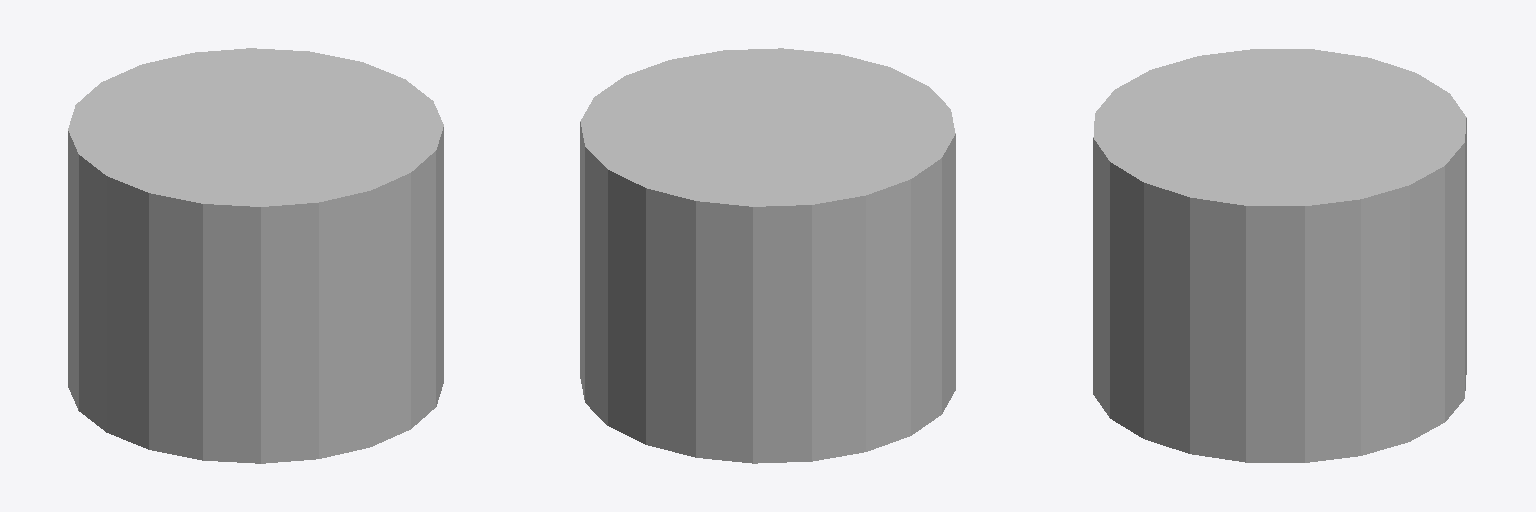
File: Resaltado_Nervio_supraclavicular_I_2.obj
3 renders of one model, left to right at view 1: azimuth 30°, elevation 25°; view 2: azimuth 150°, elevation 25°; view 3: azimuth 270°, elevation 25°, orthographic.
Visible parts, largest first — view 1: polySurface15 Marcadores1; view 2: polySurface15 Marcadores1; view 3: polySurface15 Marcadores1.
Boxes of the visible parts, x1=… form: polySurface15 Marcadores1: x1=68, y1=48, x2=443, y2=463; polySurface15 Marcadores1: x1=580, y1=48, x2=955, y2=463; polySurface15 Marcadores1: x1=1093, y1=49, x2=1466, y2=462.
Bounding box in the file's own units: 0.0277 × 0.021 × 0.0277.